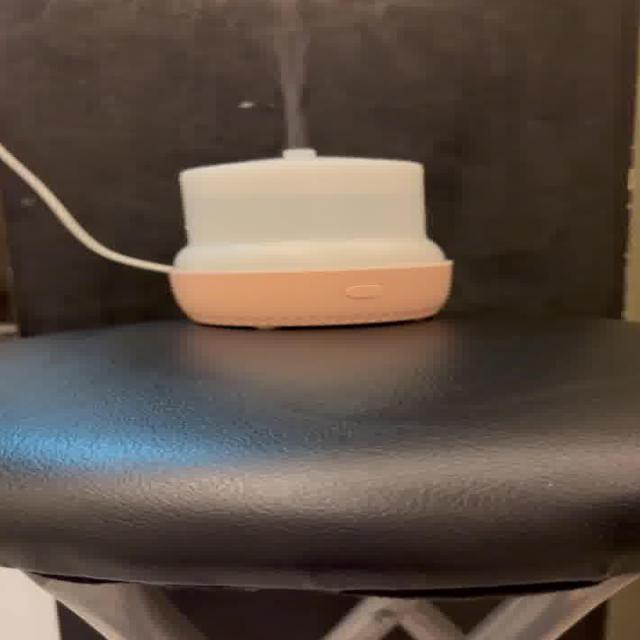fire: (260, 42, 318, 144)
